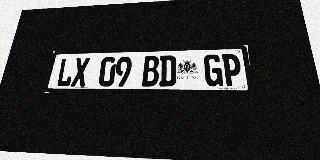0: (98, 57, 117, 87)
9: (114, 56, 132, 87)
B: (142, 56, 159, 86)
D: (159, 55, 176, 86)
G: (204, 54, 223, 86)
L: (55, 58, 75, 87)
P: (221, 54, 243, 86)
X: (71, 57, 90, 87)
